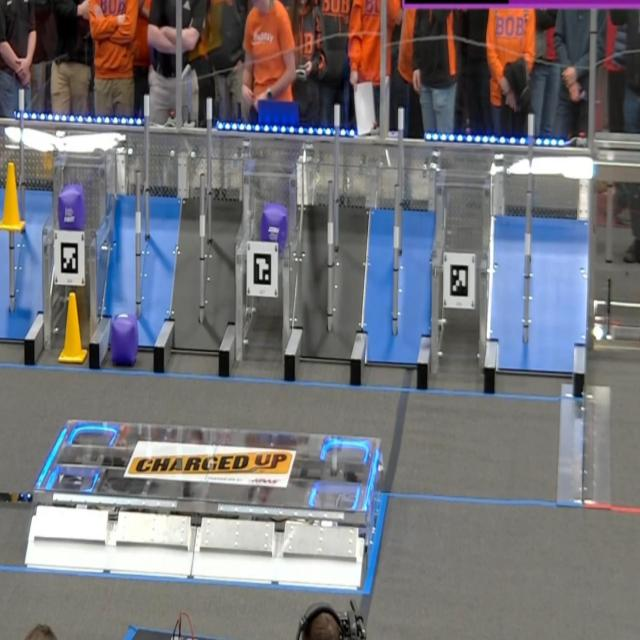frc_cone: (58, 291, 85, 364), (0, 162, 24, 232)
frc_cube: (111, 310, 138, 366), (57, 184, 84, 230), (260, 207, 288, 251)
